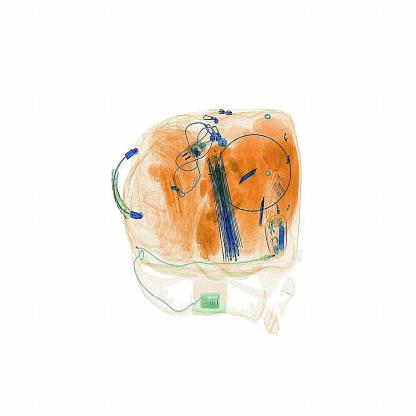pliers: (230, 156, 262, 189)
